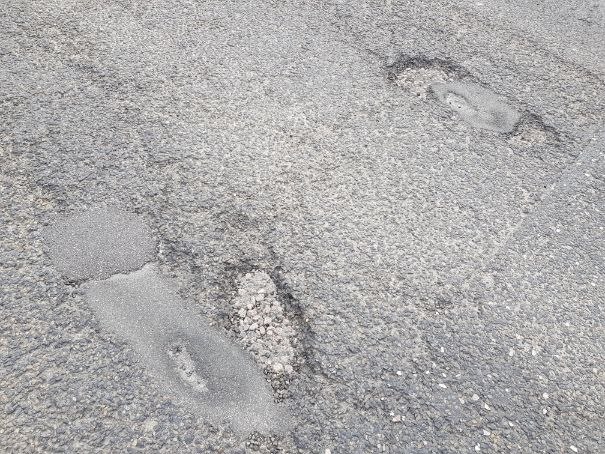pothole: (384, 46, 565, 152), (210, 247, 329, 402)
